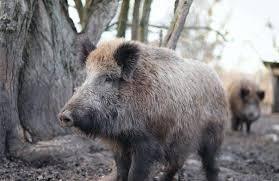wildboar: (51, 34, 229, 181), (229, 76, 265, 135)
